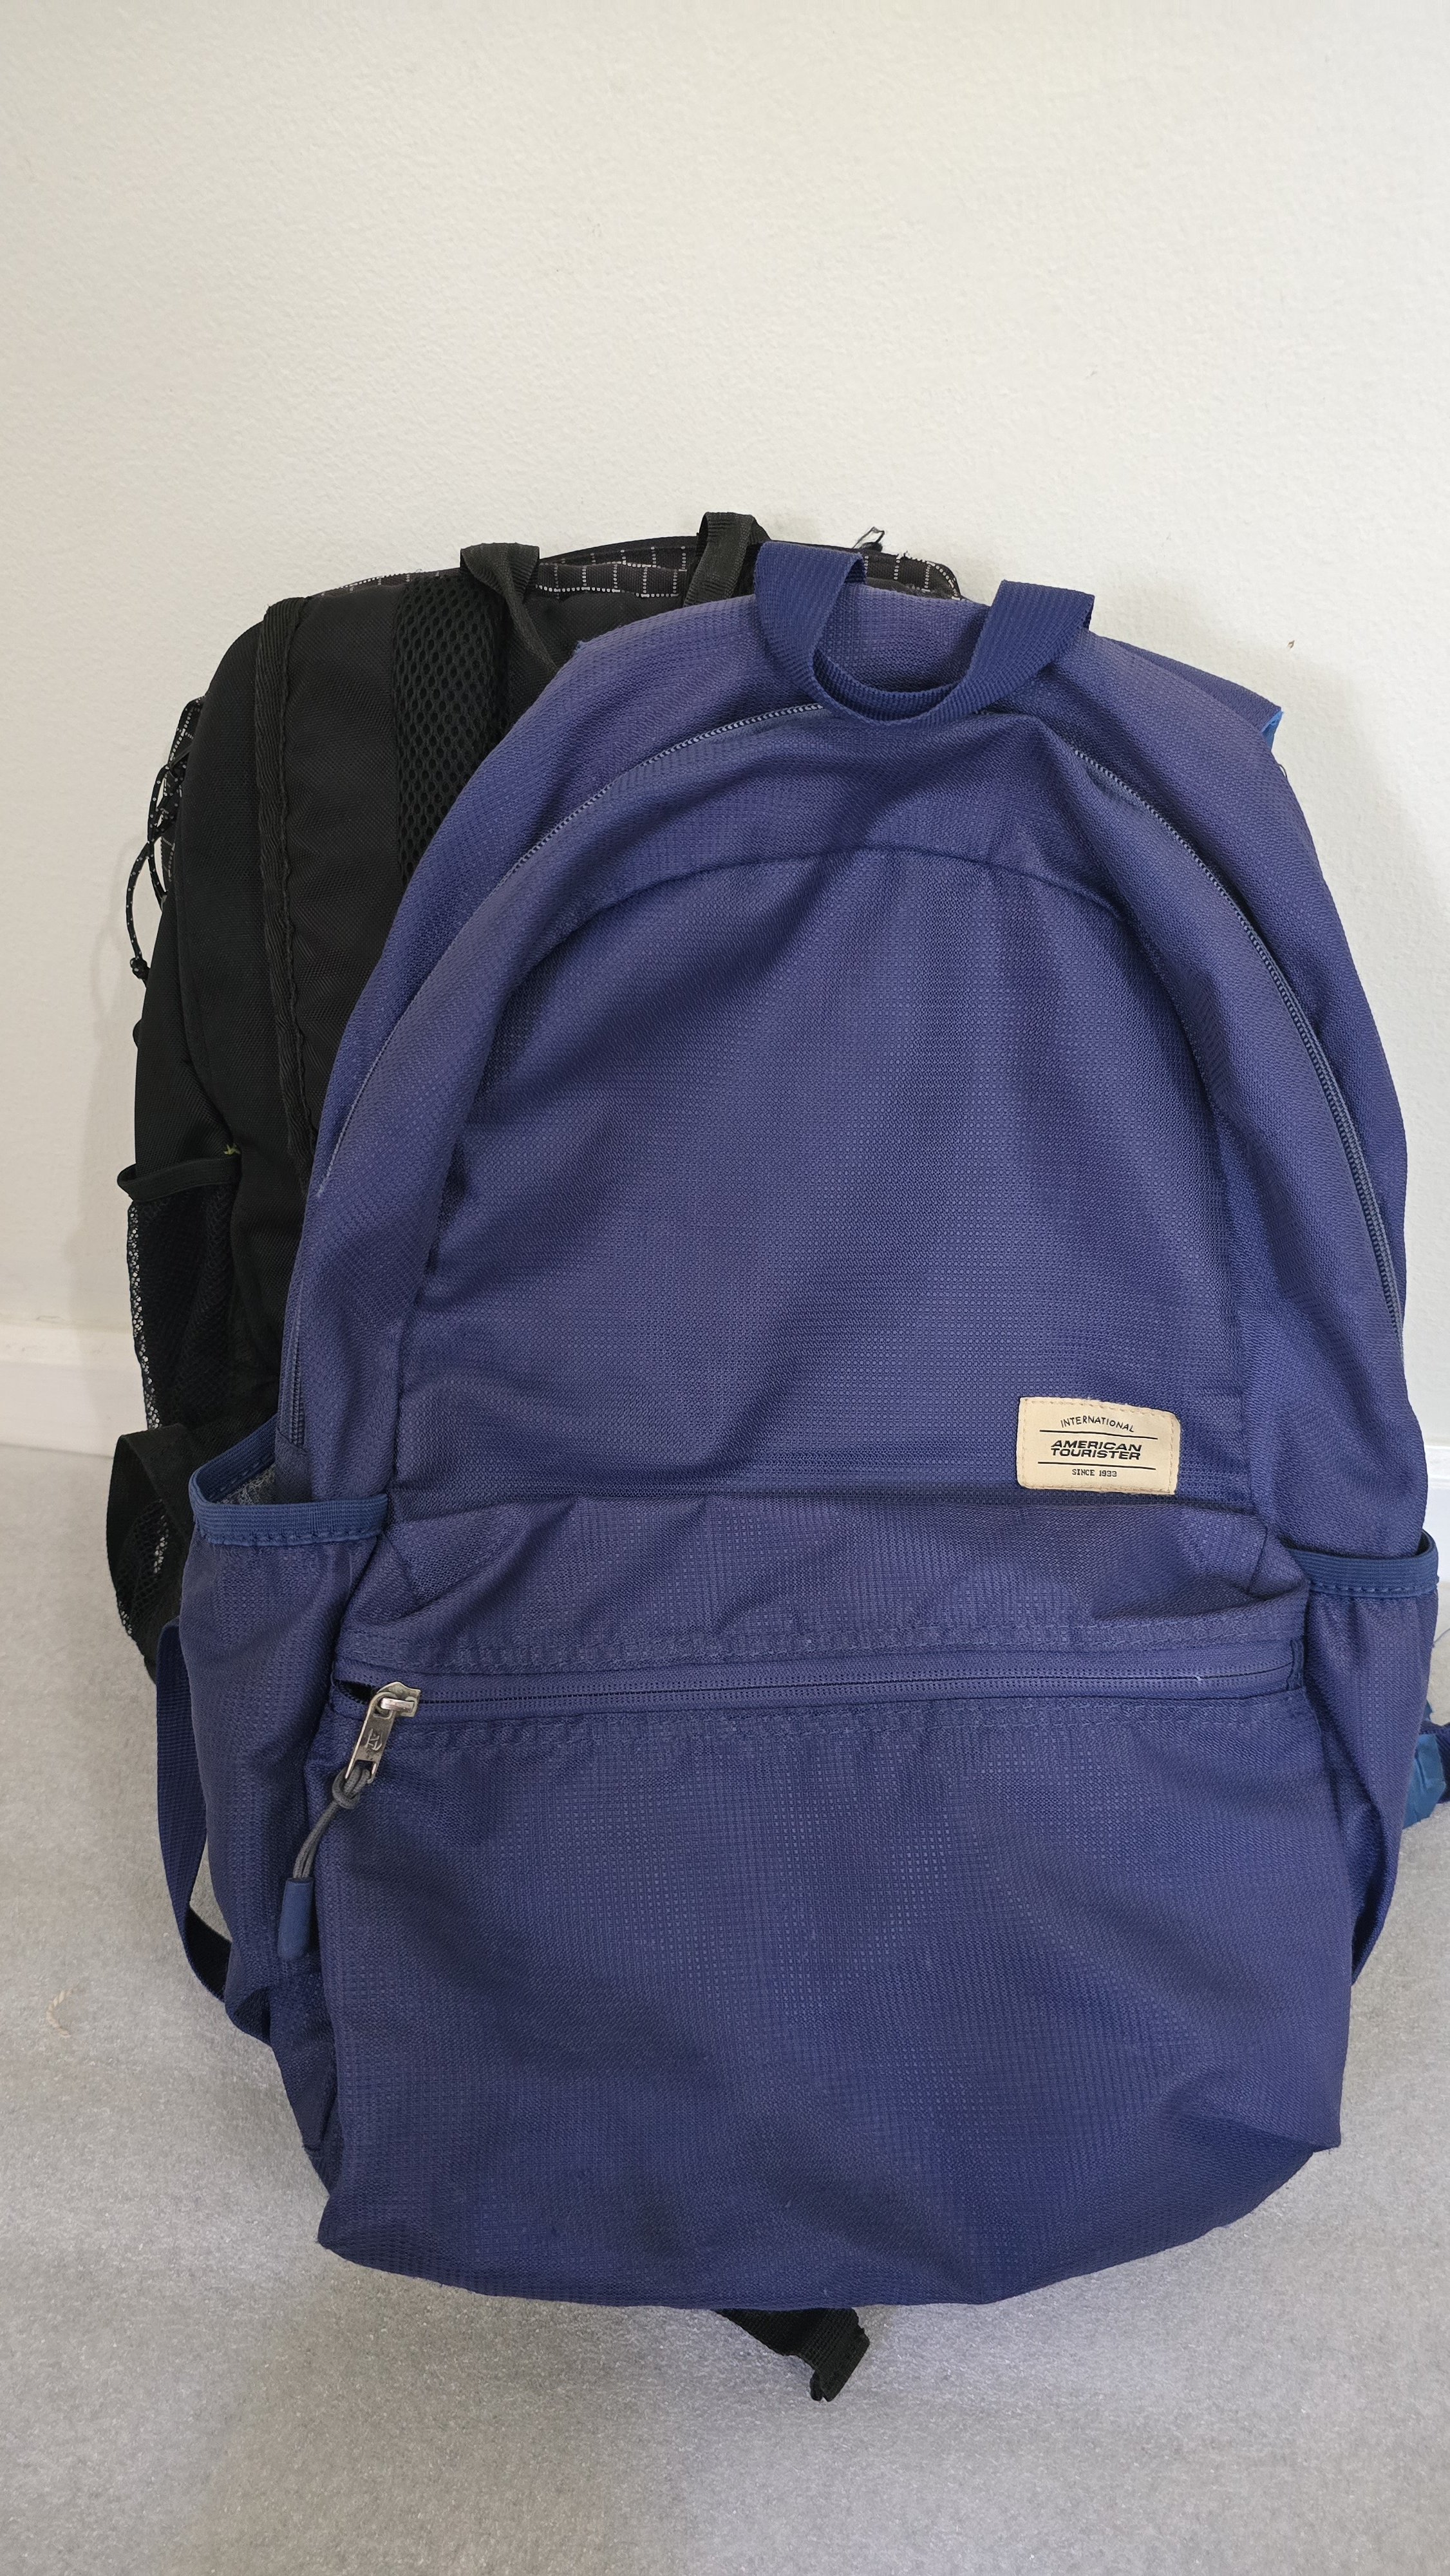bag: (120, 524, 1450, 2327)
